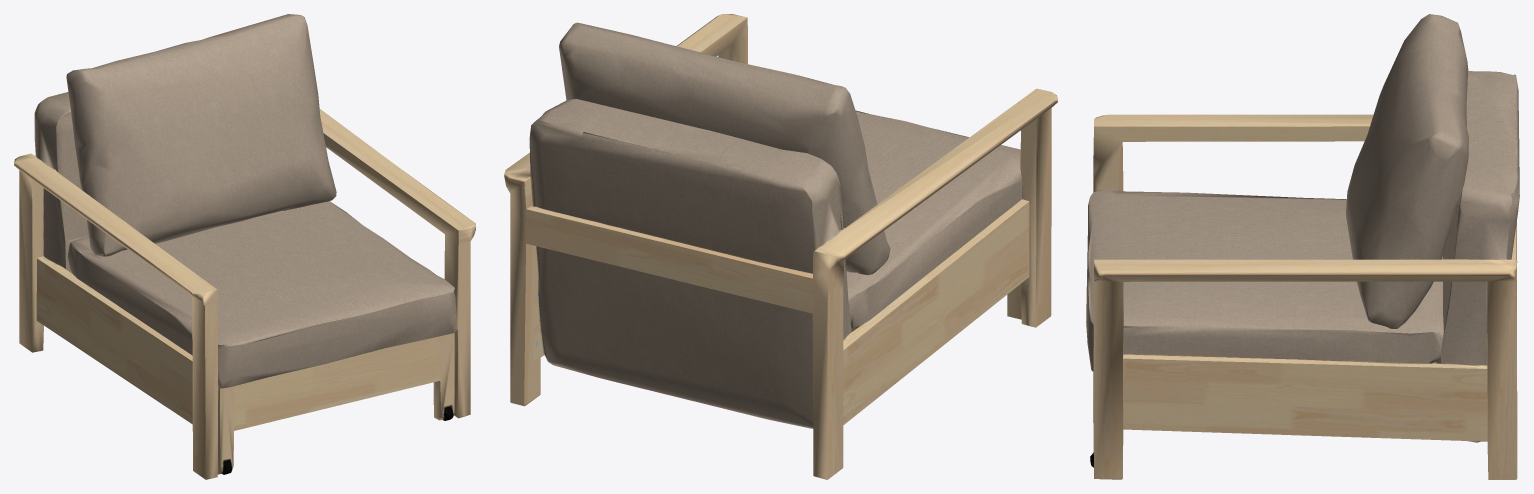
3 renders of one model, left to right at view 1: azimuth 30°, elevation 25°; view 2: azimuth 150°, elevation 25°; view 3: azimuth 270°, elevation 25°, orthographic. The views are drawn at different scales.
Visible parts, largest first — view 1: ASY_ART_50582411_S01_NV01; view 2: ASY_ART_50582411_S01_NV01; view 3: ASY_ART_50582411_S01_NV01.
Part boxes in pixels (x1,y1,x2,y2): ASY_ART_50582411_S01_NV01: (14, 14, 475, 479); ASY_ART_50582411_S01_NV01: (504, 14, 1057, 479); ASY_ART_50582411_S01_NV01: (1086, 14, 1519, 479).
Bounding box in the file's own units: 0.8382 × 0.8322 × 0.9734.
Materials: 1 (1 with a texture image).
